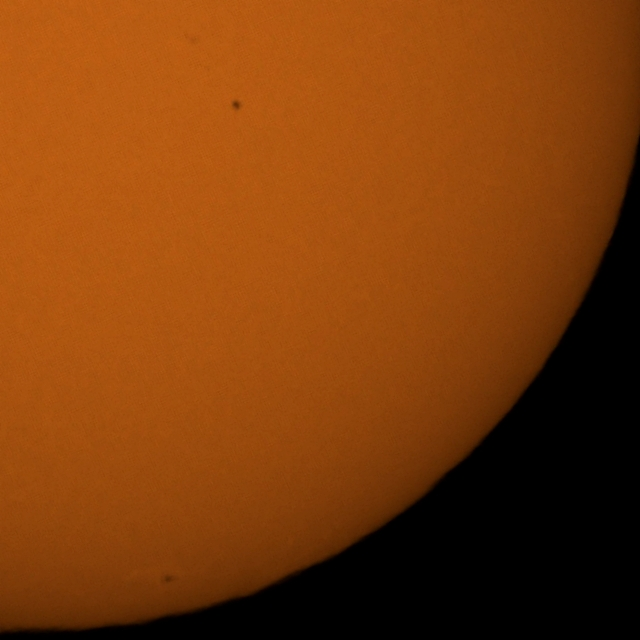sunspot: (160, 573, 175, 586), (230, 99, 243, 112)
